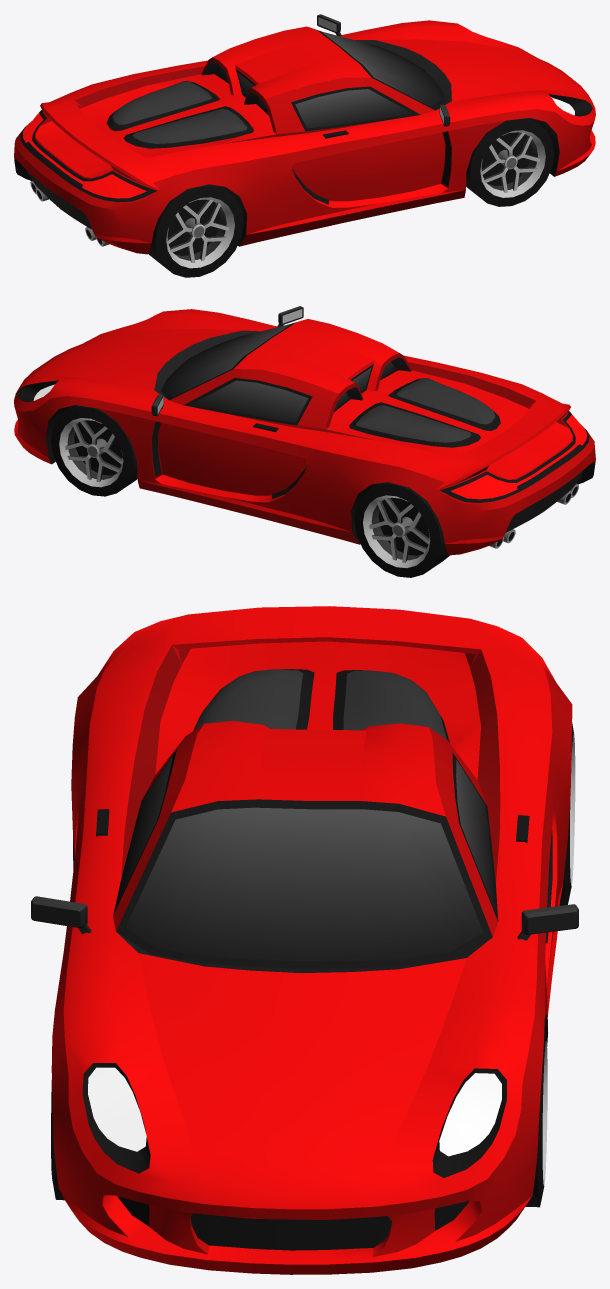
The model's file is Car_081.glb.
3 views of the same model, one above another, from view 1: azimuth 30°, elevation 25°; view 2: azimuth 150°, elevation 25°; view 3: azimuth 270°, elevation 25° (orthographic). The views are drawn at different scales.
Visible parts, largest first — view 1: Car_081, wheel_3_Car_081_Wheel_4R, wheel_1_Car_081_Wheel_2R; view 2: Car_081, wheel_2_Car_081_Wheel_3L, wheel_0_Car_081_Wheel_1L; view 3: Car_081, wheel_0_Car_081_Wheel_1L, wheel_2_Car_081_Wheel_3L.
Part boxes in pixels (left/top/right/bottom): Car_081: left=14, top=14, right=595, bottom=254; wheel_3_Car_081_Wheel_4R: left=148, top=184, right=243, bottom=277; wheel_1_Car_081_Wheel_2R: left=466, top=118, right=554, bottom=206; Car_081: left=14, top=306, right=595, bottom=555; wheel_2_Car_081_Wheel_3L: left=354, top=482, right=449, bottom=577; wheel_0_Car_081_Wheel_1L: left=51, top=405, right=137, bottom=496; Car_081: left=31, top=606, right=578, bottom=1274; wheel_0_Car_081_Wheel_1L: left=525, top=1029, right=547, bottom=1207; wheel_2_Car_081_Wheel_3L: left=559, top=722, right=575, bottom=905.
Bounding box in the file's own units: 5 × 1.29 × 2.27.
Materials: 2 (2 with a texture image).
